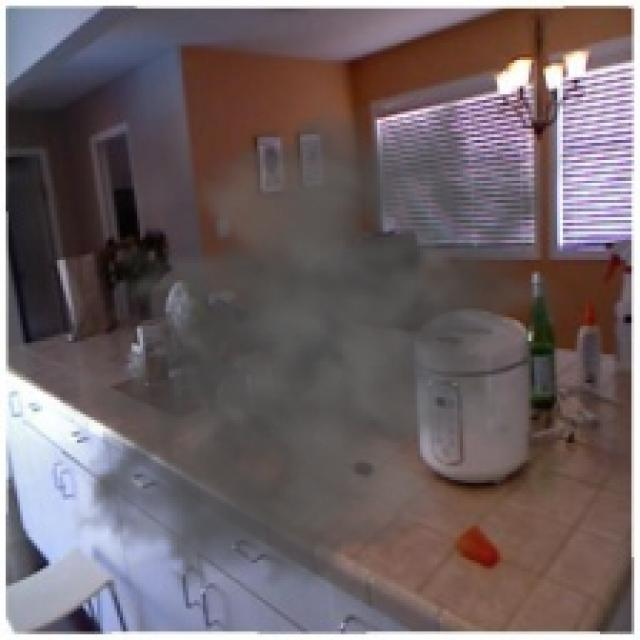smoke: (48, 63, 586, 628)
